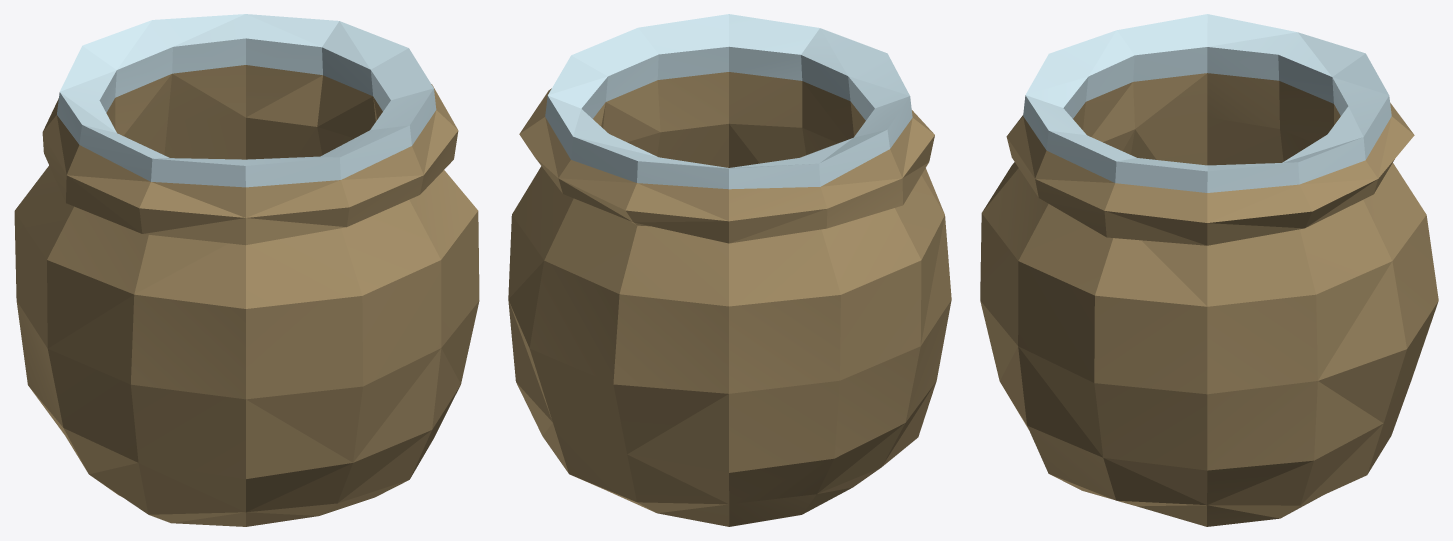
File: Jarron01.glb
3 views of the same model, side by side, from view 1: azimuth 30°, elevation 25°; view 2: azimuth 150°, elevation 25°; view 3: azimuth 270°, elevation 25° (orthographic). The views are drawn at different scales.
Parts seen in each view (by area): view 1: SM_Prop_Clay_Pot_01_Snow; view 2: SM_Prop_Clay_Pot_01_Snow; view 3: SM_Prop_Clay_Pot_01_Snow.
Part boxes in pixels (x1,y1,x2,y2): SM_Prop_Clay_Pot_01_Snow: (14,14,479,526); SM_Prop_Clay_Pot_01_Snow: (508,14,951,526); SM_Prop_Clay_Pot_01_Snow: (980,14,1438,526).
Size of the model in its own units: 0.5862 by 0.544 by 0.604.
Materials: 1 (1 with a texture image).
